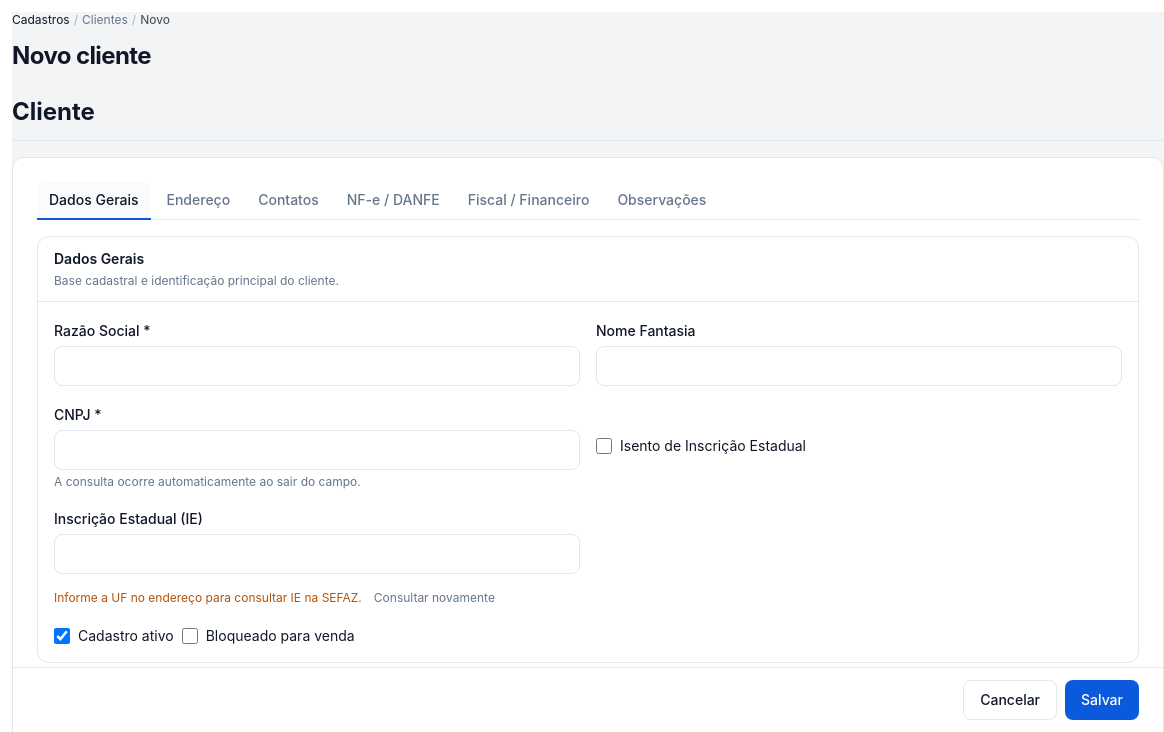
ClienteFormPage — CNPJ duplicado › exibe mensagem amigável, link com match único e mantém os dados após HTTP 400
Step 1. Type "Cliente Teste LTDA" into the field labelled "Razão Social *" → (317, 366), box [54,346,580,386]
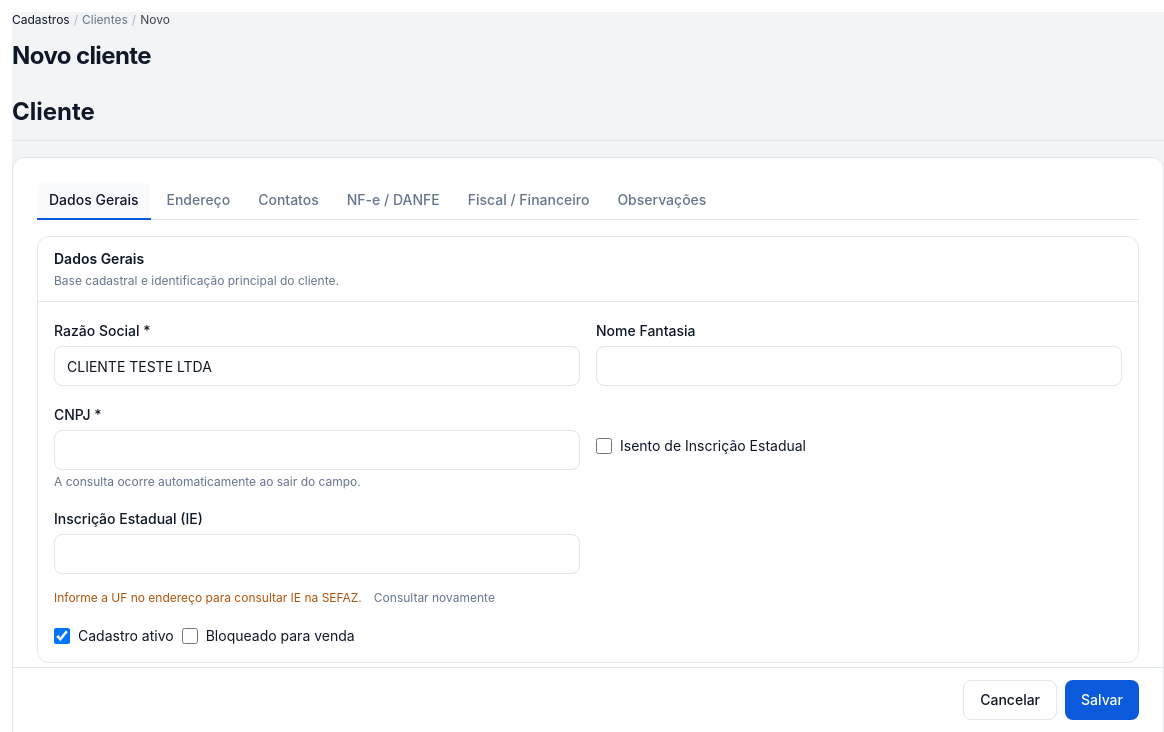
Step 2. Type "04.252.011/0001-10" into the field labelled "CNPJ *" → (317, 450), box [54,430,580,470]
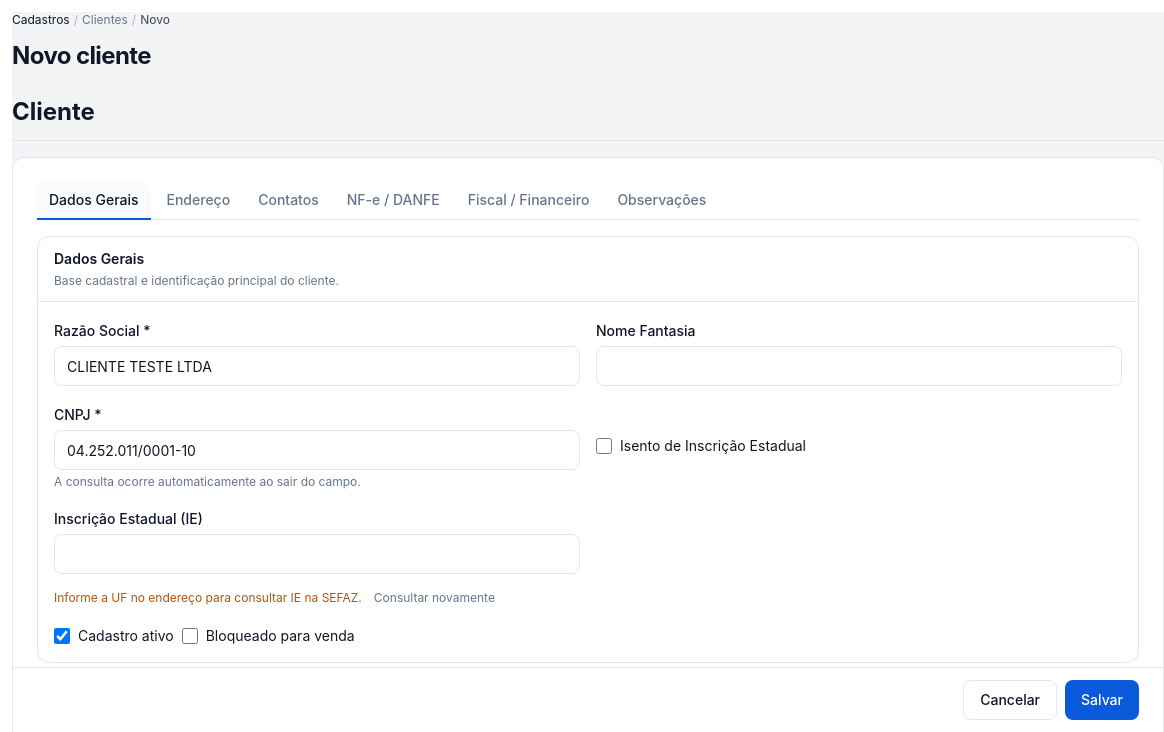
Step 3. Click the button "Salvar" → (1102, 700), box [1065,680,1139,720]
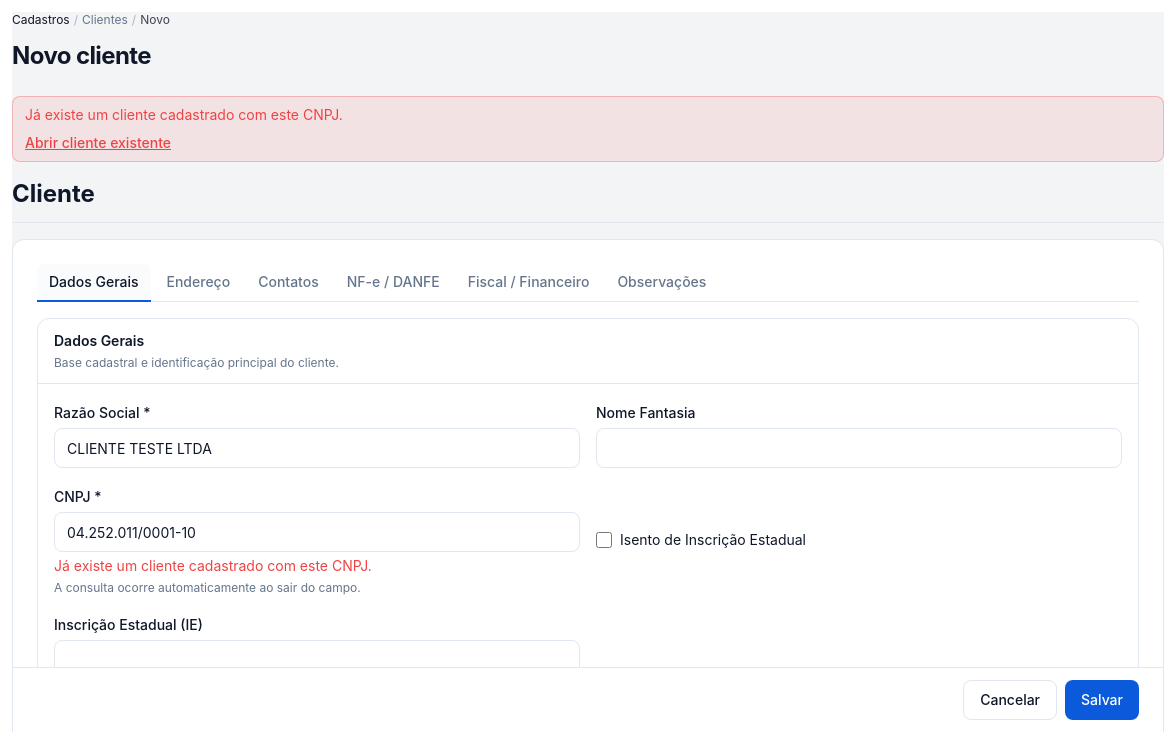
Result: the text with test id "cliente-form-save-error-main" reads "Já existe um cliente cadastrado com este CNPJ." at [25,106,343,123]
